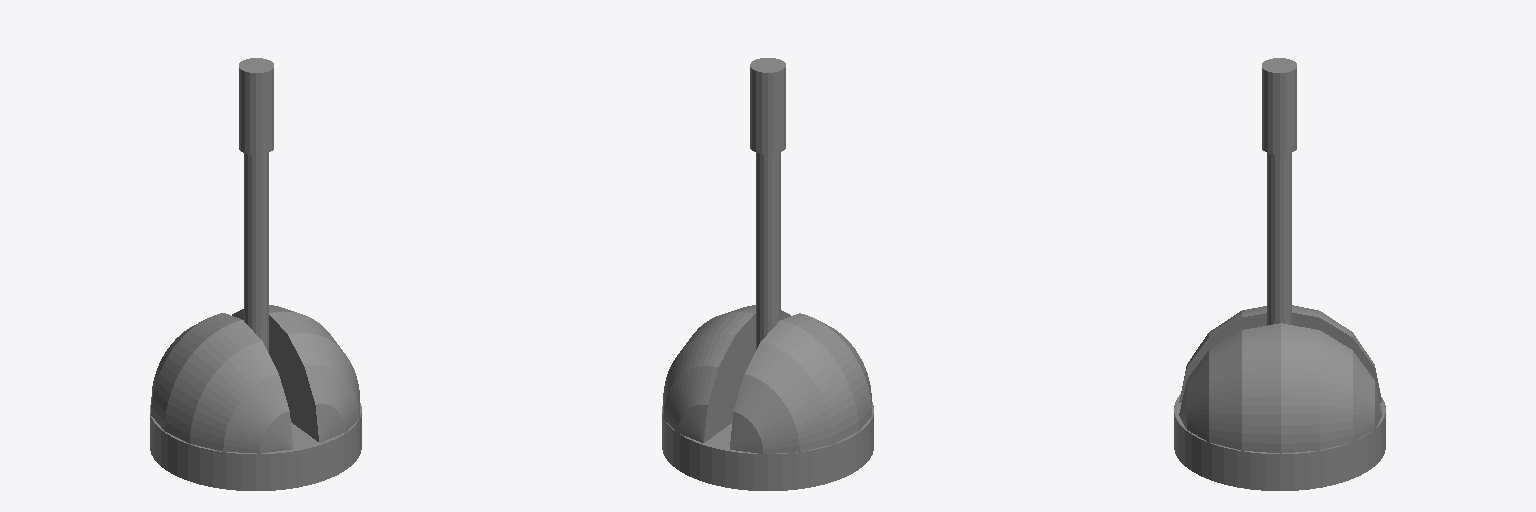
File: Palanca_Final.obj
3 views of the same model, side by side, from view 1: azimuth 30°, elevation 25°; view 2: azimuth 150°, elevation 25°; view 3: azimuth 270°, elevation 25° (orthographic).
Parts seen in each view (by area): view 1: Base_Base, Palanca_Palanca; view 2: Base_Base, Palanca_Palanca; view 3: Base_Base, Palanca_Palanca.
Part boxes in pixels (x1,y1,x2,y2): Base_Base: (150,305,361,490); Palanca_Palanca: (239,58,273,352); Base_Base: (662,305,873,490); Palanca_Palanca: (750,58,785,349); Base_Base: (1174,305,1385,490); Palanca_Palanca: (1262,58,1296,325).
Size of the model in its own units: 20.25 by 40.16 by 20.26.